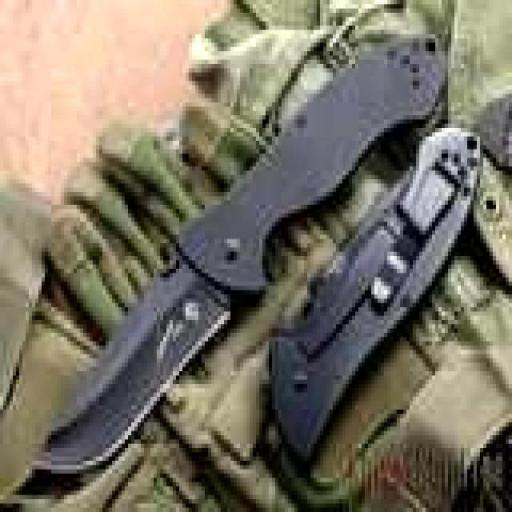knife: (30, 32, 448, 472)
